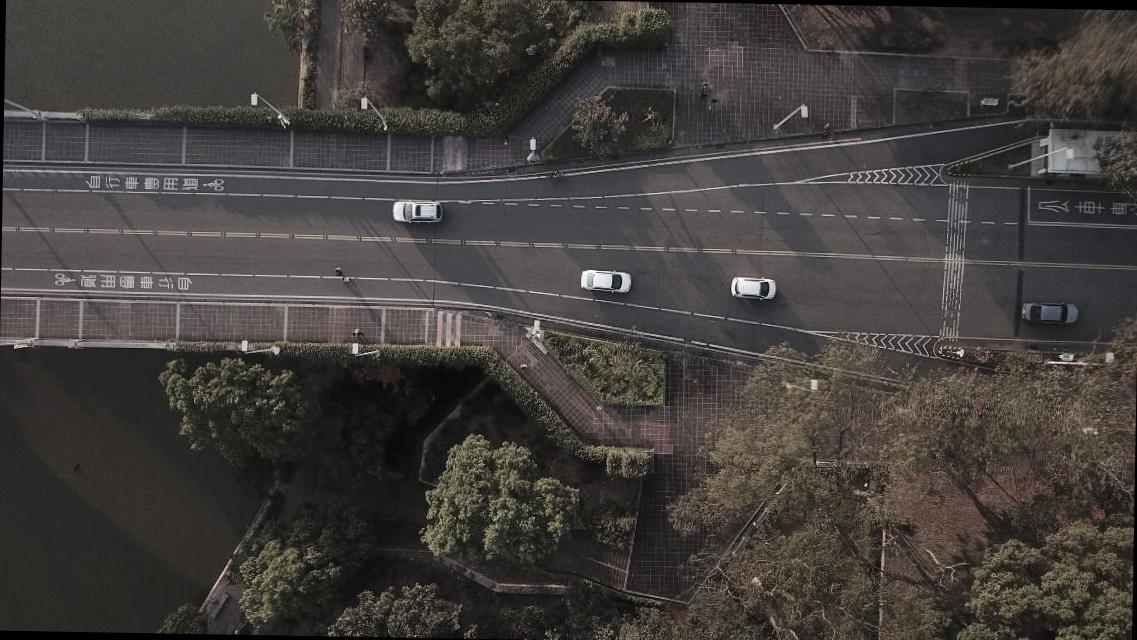vehicle: (1021, 300, 1078, 325), (392, 198, 444, 224), (580, 268, 632, 293), (731, 276, 776, 302)
